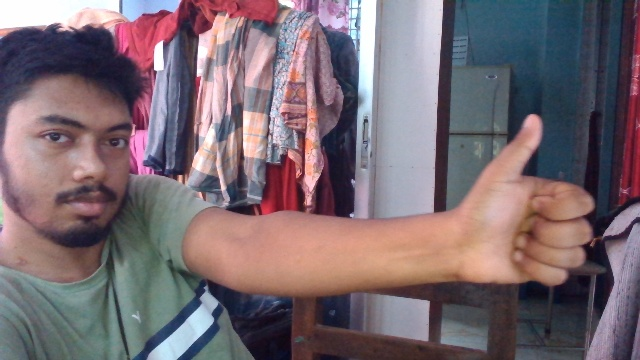yes: (486, 117, 596, 291)
